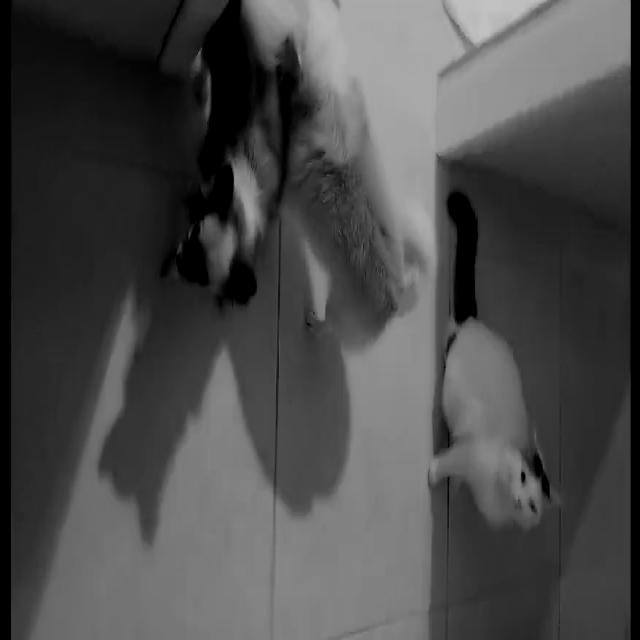Pedrita: (152, 14, 308, 330)
Simba: (426, 245, 570, 590)
Theo: (278, 47, 436, 363)
